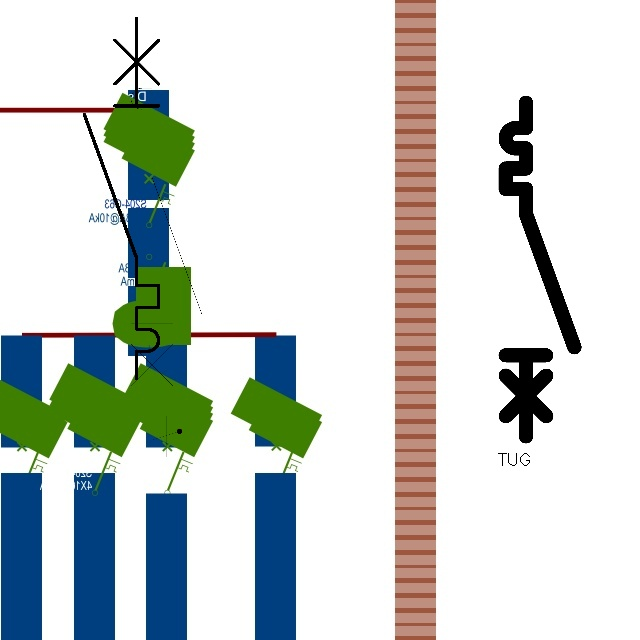interruptor_termomagnetico: (75, 9, 168, 388), (122, 53, 211, 416), (497, 94, 583, 445)
